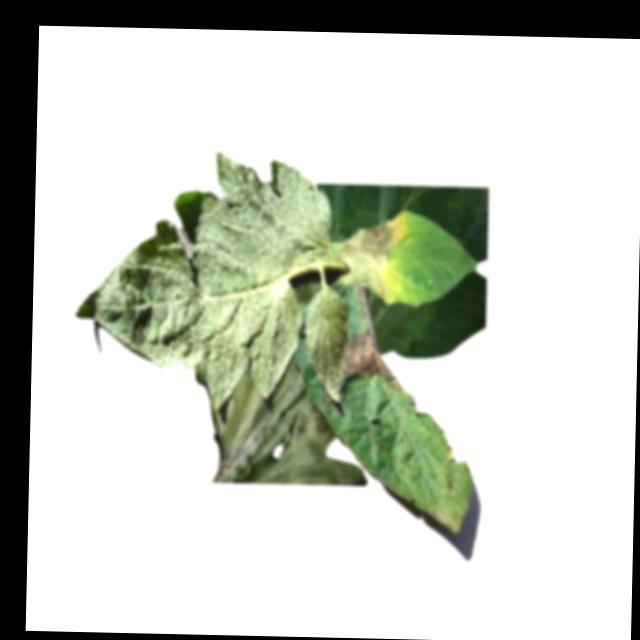Late_blight: (191, 361, 371, 486), (339, 211, 409, 300), (336, 328, 396, 382), (430, 505, 464, 531)
healthy: (73, 150, 348, 410)
